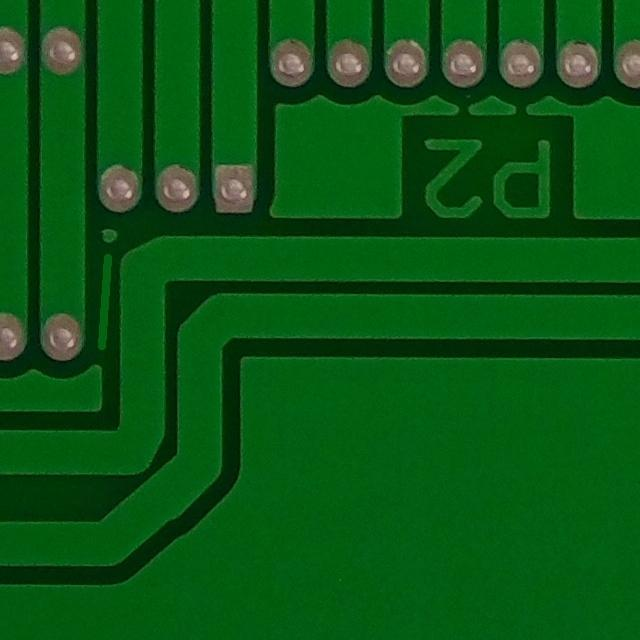spurious_copper: (83, 242, 129, 355)
